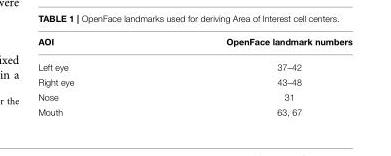table: (37, 37, 351, 116)
table column: (149, 37, 351, 116), (37, 37, 149, 116)
table column header: (37, 37, 351, 54)
table row: (37, 54, 351, 74), (37, 37, 351, 54), (37, 74, 351, 89), (37, 89, 351, 104), (37, 104, 351, 116)
